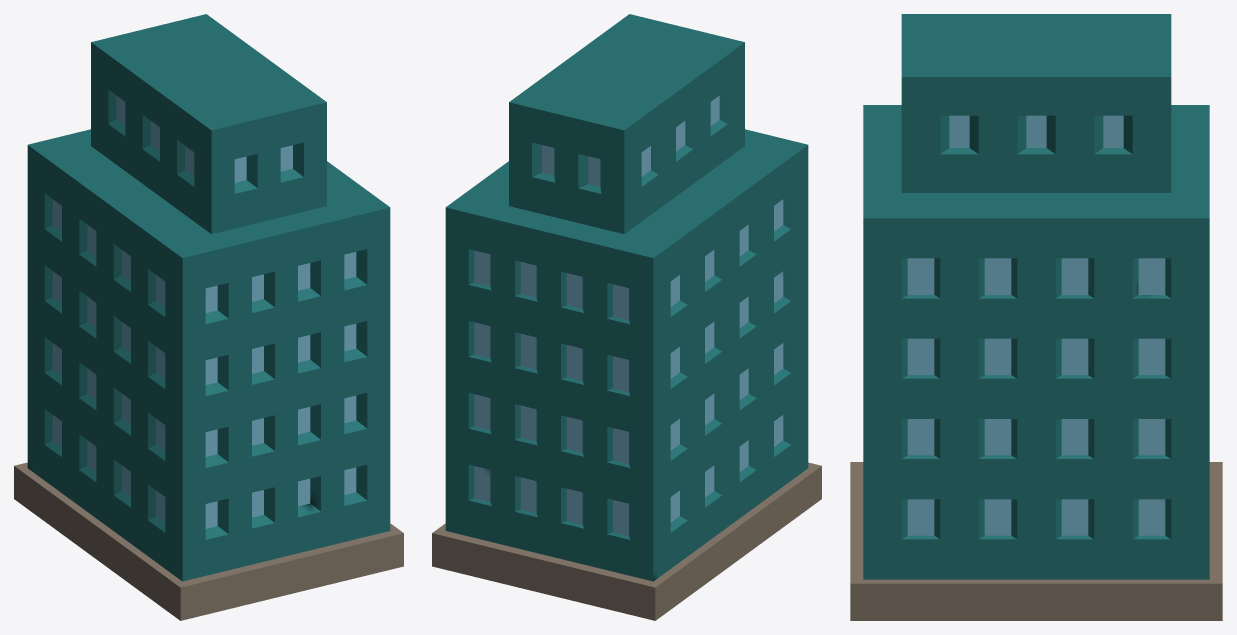
Rendered from fbCityHomeWide.fbx.
The picture shows the model from 3 angles, left to right: view 1: azimuth 30°, elevation 25°; view 2: azimuth 150°, elevation 25°; view 3: azimuth 270°, elevation 25°; orthographic projection. The views are drawn at different scales.
Visible parts, largest first — view 1: Cube.389; view 2: Cube.389; view 3: Cube.389.
Boxes of the visible parts, left/top/right/bottom form: Cube.389: left=14, top=14, right=403, bottom=620; Cube.389: left=432, top=14, right=821, bottom=620; Cube.389: left=850, top=14, right=1222, bottom=620.
Bounding box in the file's own units: 526 × 1037 × 680.
